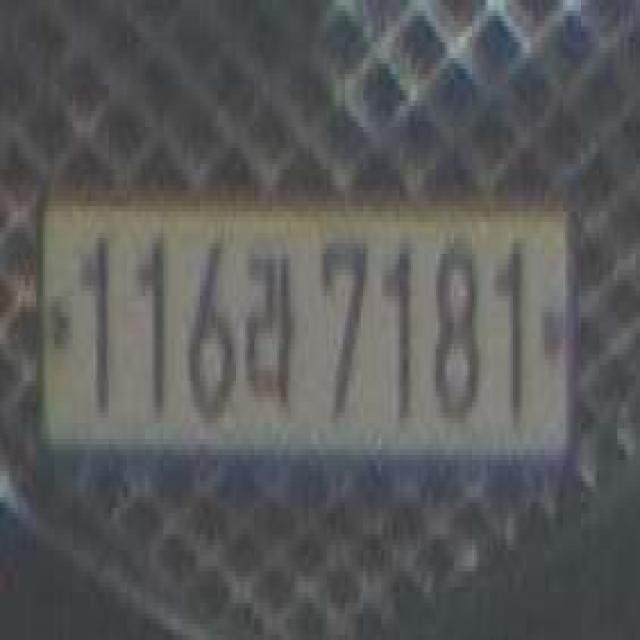illegal_plate: (34, 179, 579, 504)
